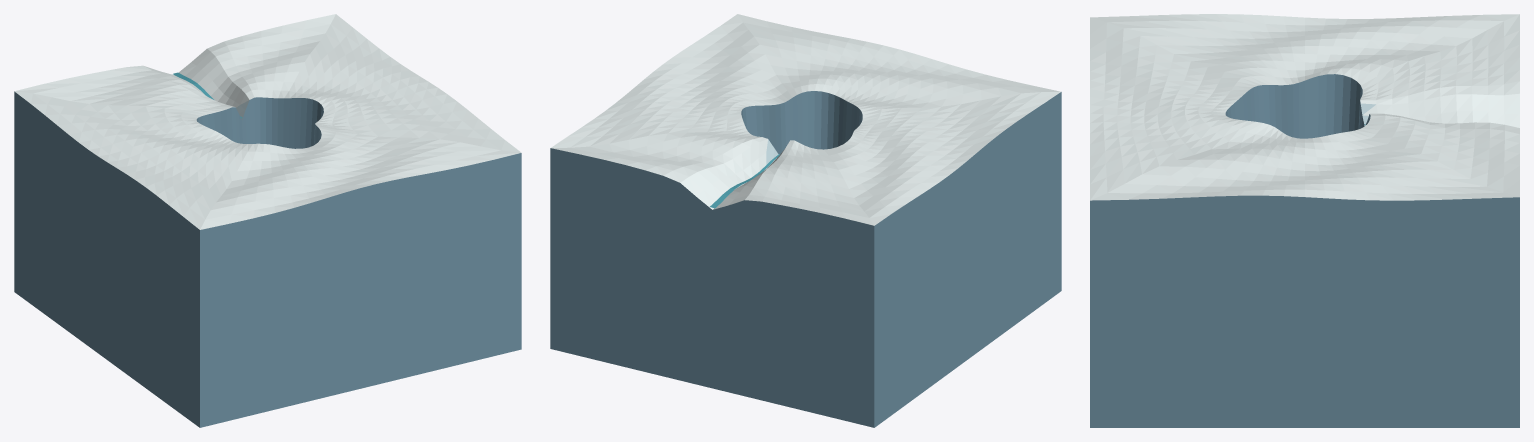
The picture shows the model from 3 angles, left to right: view 1: azimuth 30°, elevation 25°; view 2: azimuth 150°, elevation 25°; view 3: azimuth 270°, elevation 25°; orthographic projection. The views are drawn at different scales.
Parts seen in each view (by area): view 1: true_open_upper_moulin_annular_ice_volume; view 2: true_open_upper_moulin_annular_ice_volume; view 3: true_open_upper_moulin_annular_ice_volume.
Part boxes in pixels (x1,y1,x2,y2): true_open_upper_moulin_annular_ice_volume: [14, 14, 521, 427]; true_open_upper_moulin_annular_ice_volume: [550, 14, 1061, 427]; true_open_upper_moulin_annular_ice_volume: [1090, 14, 1519, 427].
Bounding box in the file's own units: 20 × 11.93 × 20.
